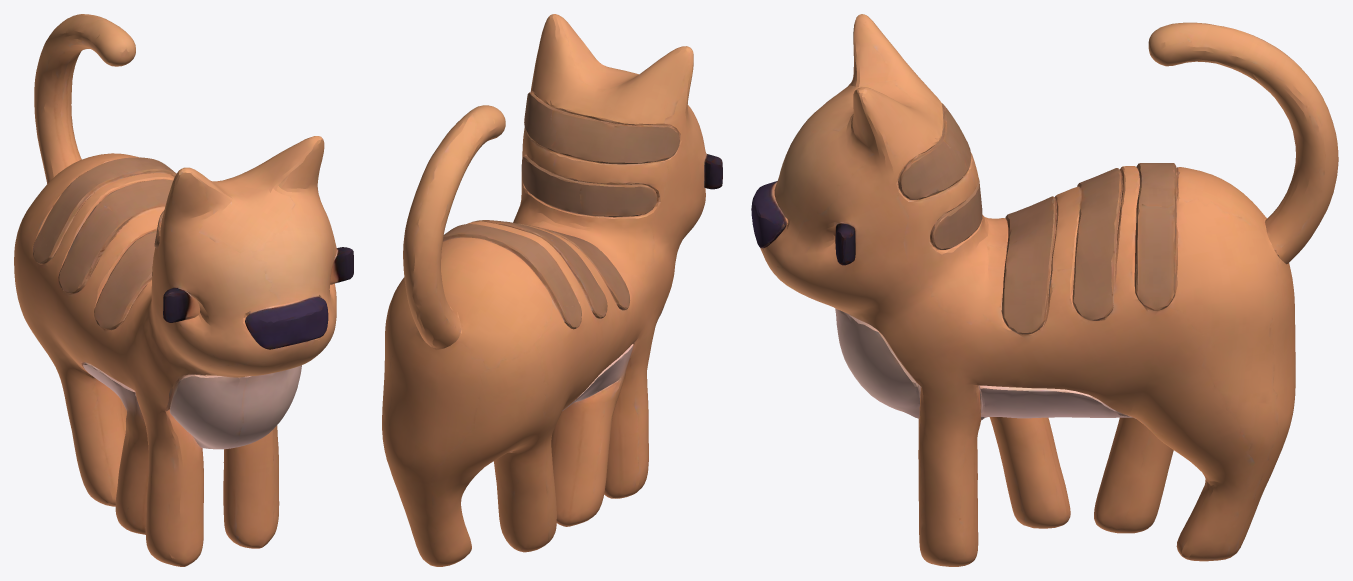
File: kitten.glb
3 views of the same model, side by side, from view 1: azimuth 30°, elevation 25°; view 2: azimuth 150°, elevation 25°; view 3: azimuth 270°, elevation 25° (orthographic). The views are drawn at different scales.
Parts seen in each view (by area): view 1: Mesh; view 2: Mesh; view 3: Mesh.
Part boxes in pixels (x1,y1,x2,y2): Mesh: (14, 14, 353, 566); Mesh: (382, 14, 722, 566); Mesh: (751, 14, 1338, 566).
Bounding box in the file's own units: 0.4281 × 0.9739 × 1.
Materials: 1 (1 with a texture image).
